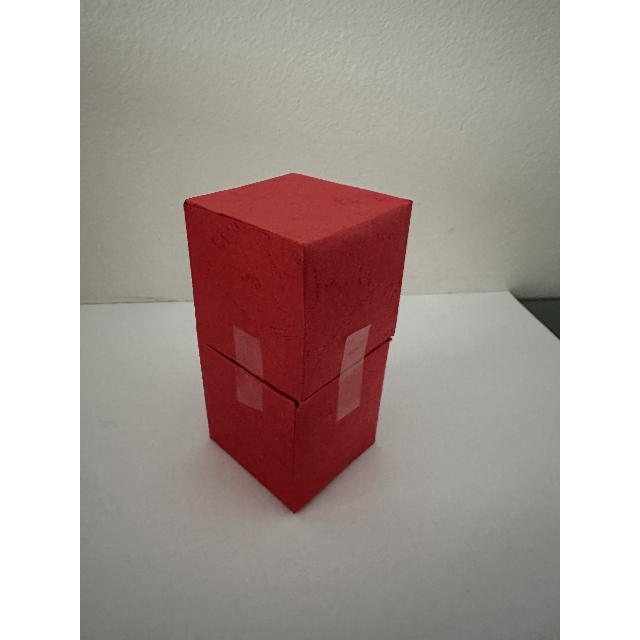red_cube: (171, 149, 441, 549)
